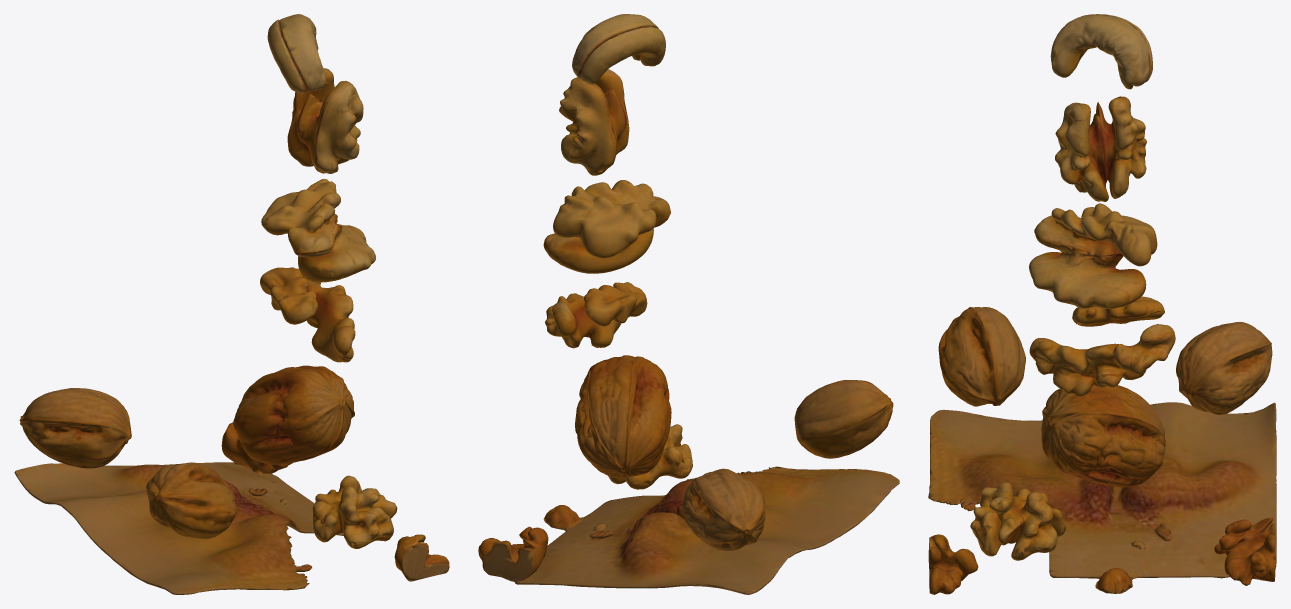
File: nuez.glb
3 views of the same model, side by side, from view 1: azimuth 30°, elevation 25°; view 2: azimuth 150°, elevation 25°; view 3: azimuth 270°, elevation 25° (orthographic). The views are drawn at different scales.
Parts seen in each view (by area): view 1: tripo_node_57a84752-5df4-4531-856a-9f2f4ce83029; view 2: tripo_node_57a84752-5df4-4531-856a-9f2f4ce83029; view 3: tripo_node_57a84752-5df4-4531-856a-9f2f4ce83029.
Part boxes in pixels (x1,y1,x2,y2): tripo_node_57a84752-5df4-4531-856a-9f2f4ce83029: [14, 14, 449, 594]; tripo_node_57a84752-5df4-4531-856a-9f2f4ce83029: [478, 14, 899, 594]; tripo_node_57a84752-5df4-4531-856a-9f2f4ce83029: [928, 14, 1276, 594].
Bounding box in the file's own units: 0.5616 × 0.9794 × 0.5712.
1 material, 1 textured.
